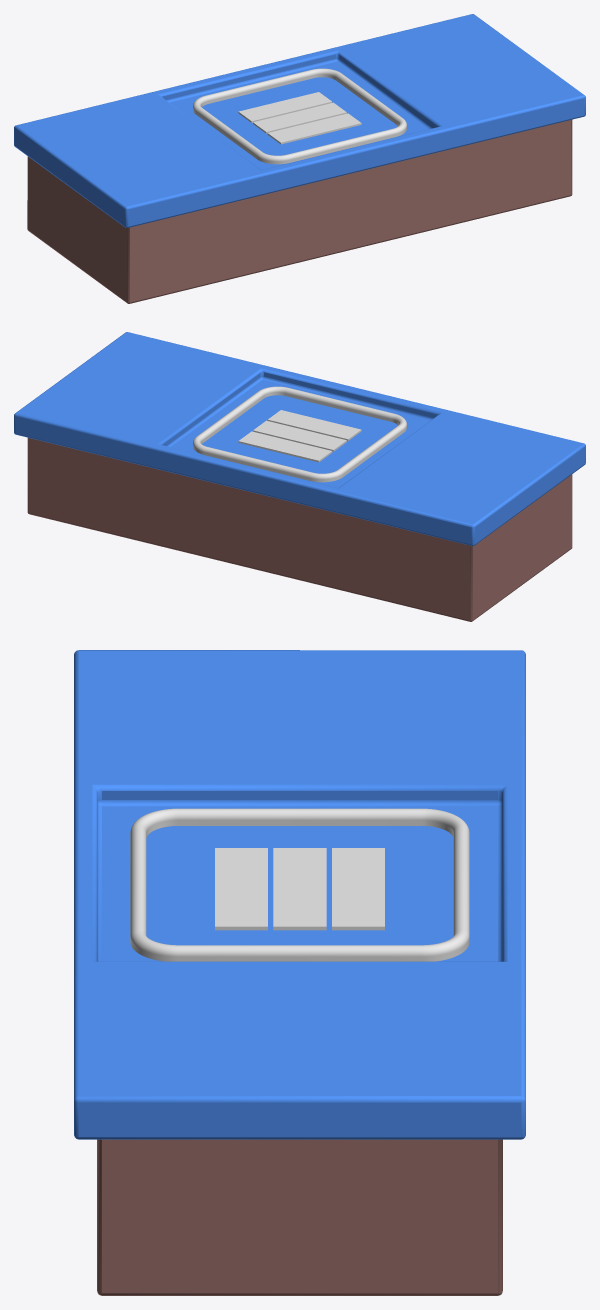
File: Table_1.fbx
3 renders of one model, top to bottom at view 1: azimuth 30°, elevation 25°; view 2: azimuth 150°, elevation 25°; view 3: azimuth 270°, elevation 25°, orthographic. The views are drawn at different scales.
Parts seen in each view (by area): view 1: Table, Obvodka, Doska; view 2: Table, Obvodka, Doska; view 3: Table, Obvodka, Doska.
Boxes of the visible parts, left/top/right/bottom form: Table: left=14, top=14, right=585, bottom=303; Obvodka: left=193, top=68, right=406, bottom=164; Doska: left=238, top=92, right=361, bottom=144; Table: left=14, top=332, right=585, bottom=621; Obvodka: left=193, top=386, right=406, bottom=482; Doska: left=238, top=410, right=361, bottom=462; Table: left=74, top=650, right=525, bottom=1295; Obvodka: left=130, top=808, right=469, bottom=961; Doska: left=215, top=848, right=384, bottom=930.
Size of the model in its own units: 400 by 85.79 by 170.
